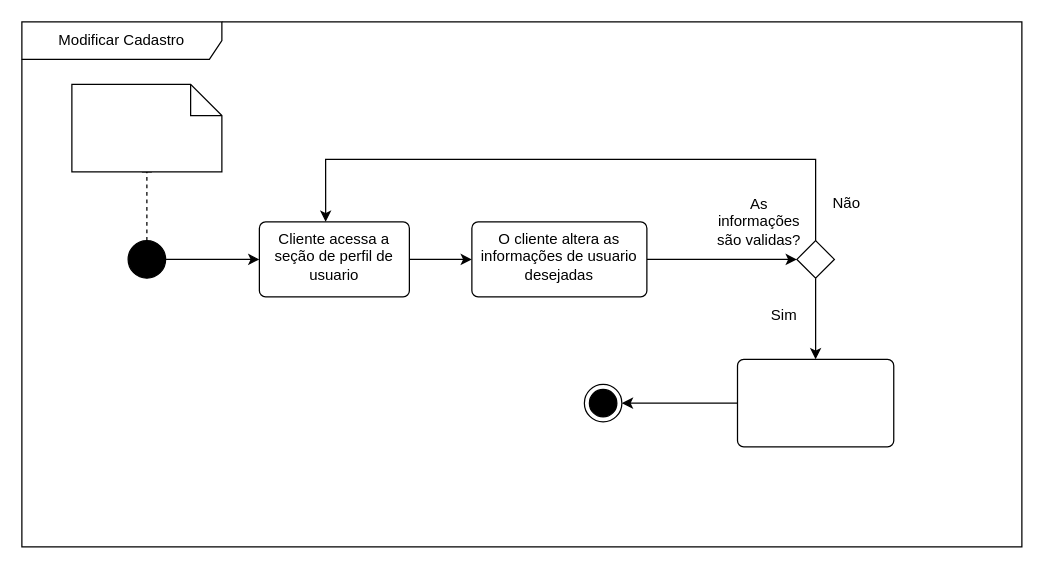
Image size: 1044x569. Some labels were removed from this diagram. Here are the shapes that lost their labels. From the top down, the centre of each, then its label:
the point at 146,127: O cliente deve estar logado no sistema
the point at 815,402: As alterações são salvas e a tela de usuario atualizada
